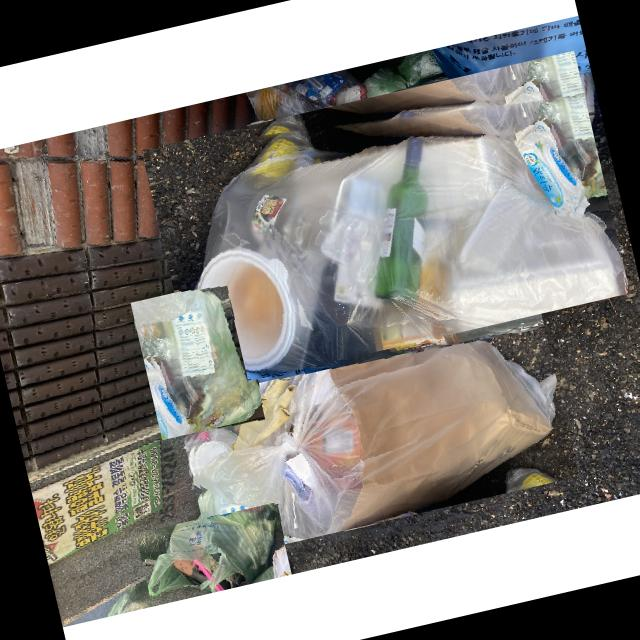general_trashbag: (147, 289, 254, 432), (148, 501, 278, 595)
other_trashbag: (182, 125, 625, 368), (197, 328, 556, 537)
